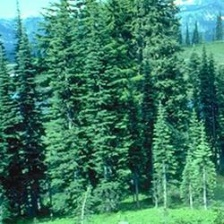neutral: (1, 1, 224, 223)
